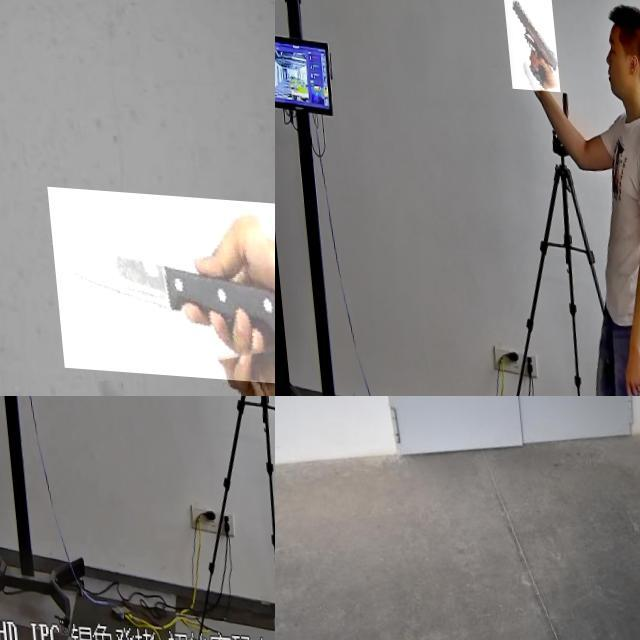-: (42, 183, 275, 377), (571, 396, 607, 408)
gun-knife-thesis - v11 Yolov5 augmented: (500, 0, 556, 87), (0, 396, 24, 434)
